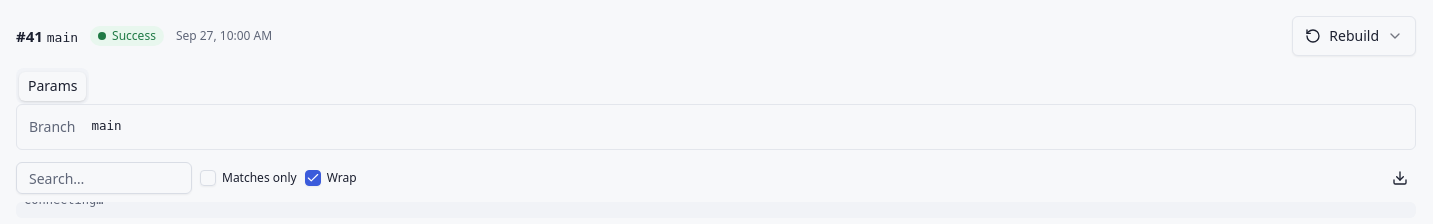
Scenario: RunDetail › hides the next-tag option when the project has no tag parameter
(page scrolled)
Click the button "Rebuild" at (1354, 36), box [1292,16,1416,56]
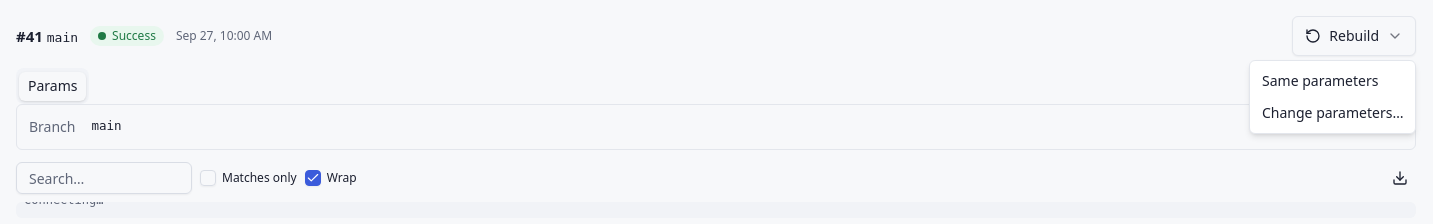
Check: the menu item "Same parameters" is shown, box [1262,71,1378,90]
